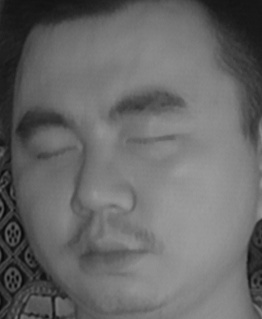blink: (123, 118, 183, 161), (29, 134, 79, 168)
mouth: (63, 224, 153, 279)
